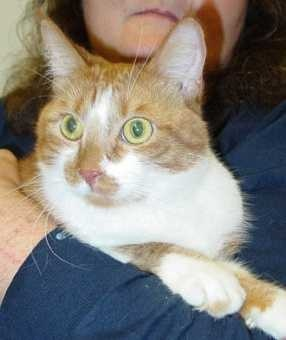Cat: (22, 17, 245, 316)
